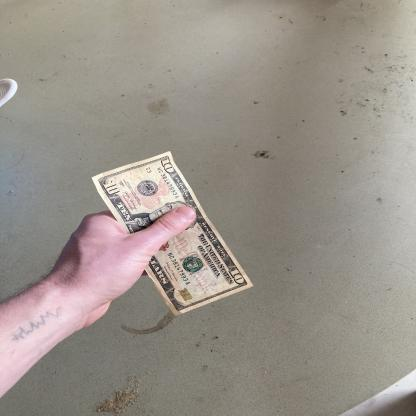ten-front: (90, 152, 254, 317)
